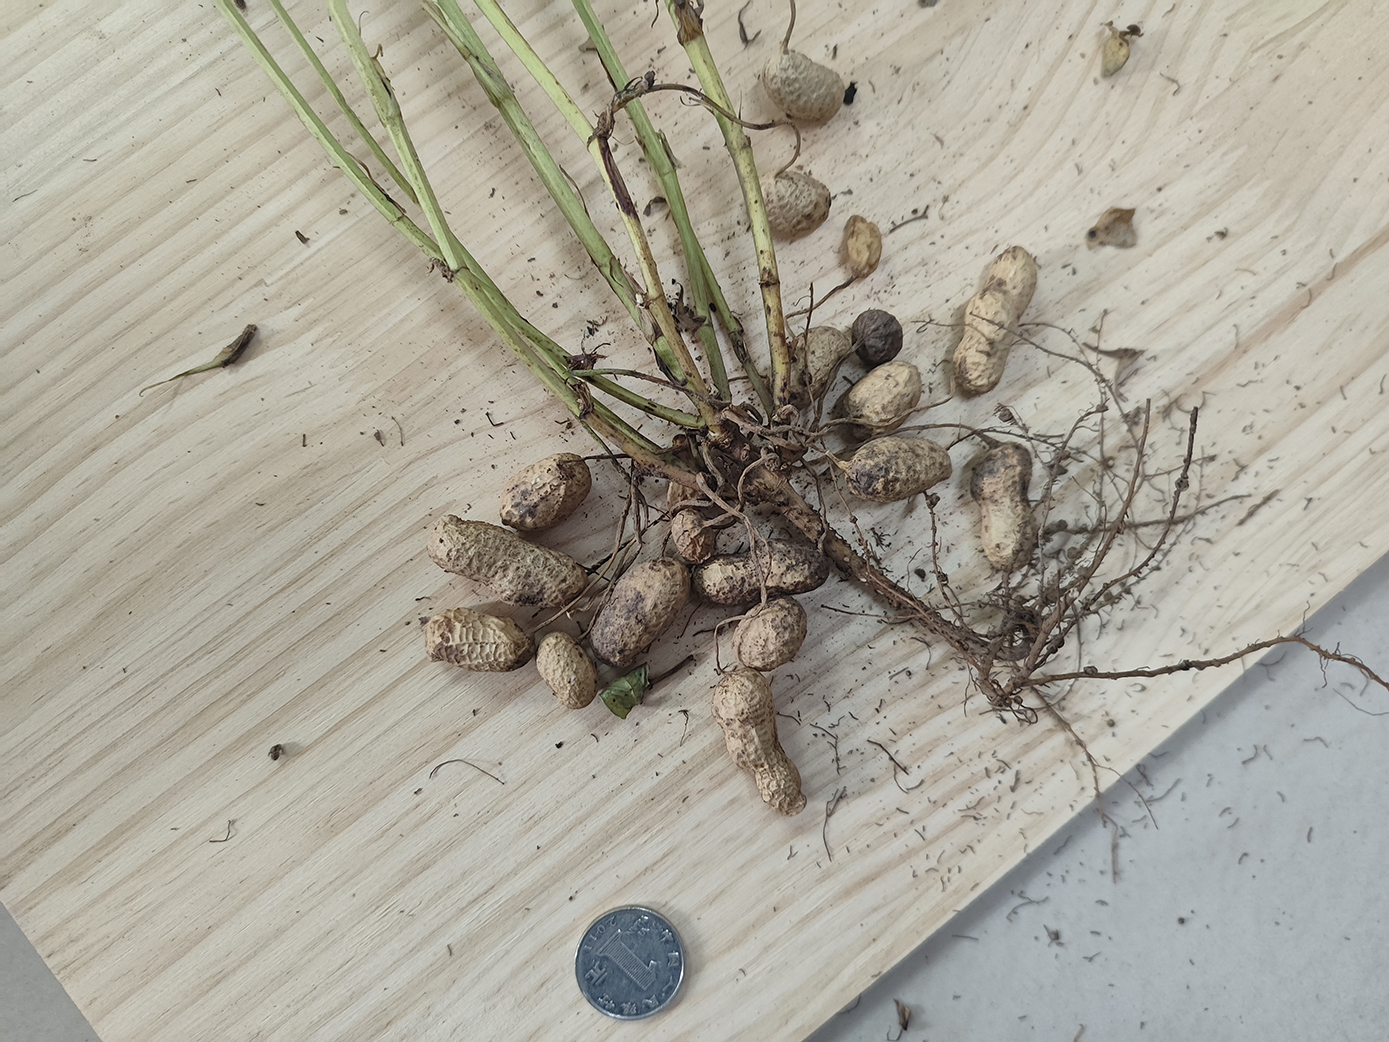h: (425, 514, 588, 609), (711, 667, 807, 817), (952, 245, 1038, 398), (589, 556, 692, 667), (691, 537, 830, 605), (499, 451, 592, 533), (844, 435, 952, 503), (425, 607, 536, 673), (762, 50, 846, 123), (844, 360, 922, 435), (731, 597, 807, 671), (537, 630, 598, 709), (759, 170, 831, 234), (787, 326, 850, 400), (844, 215, 883, 280), (670, 508, 716, 563)
l: (969, 441, 1038, 571), (850, 309, 903, 366)
